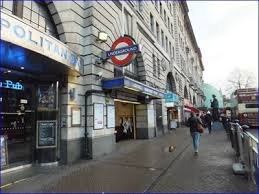London Underground: (106, 34, 136, 65)
